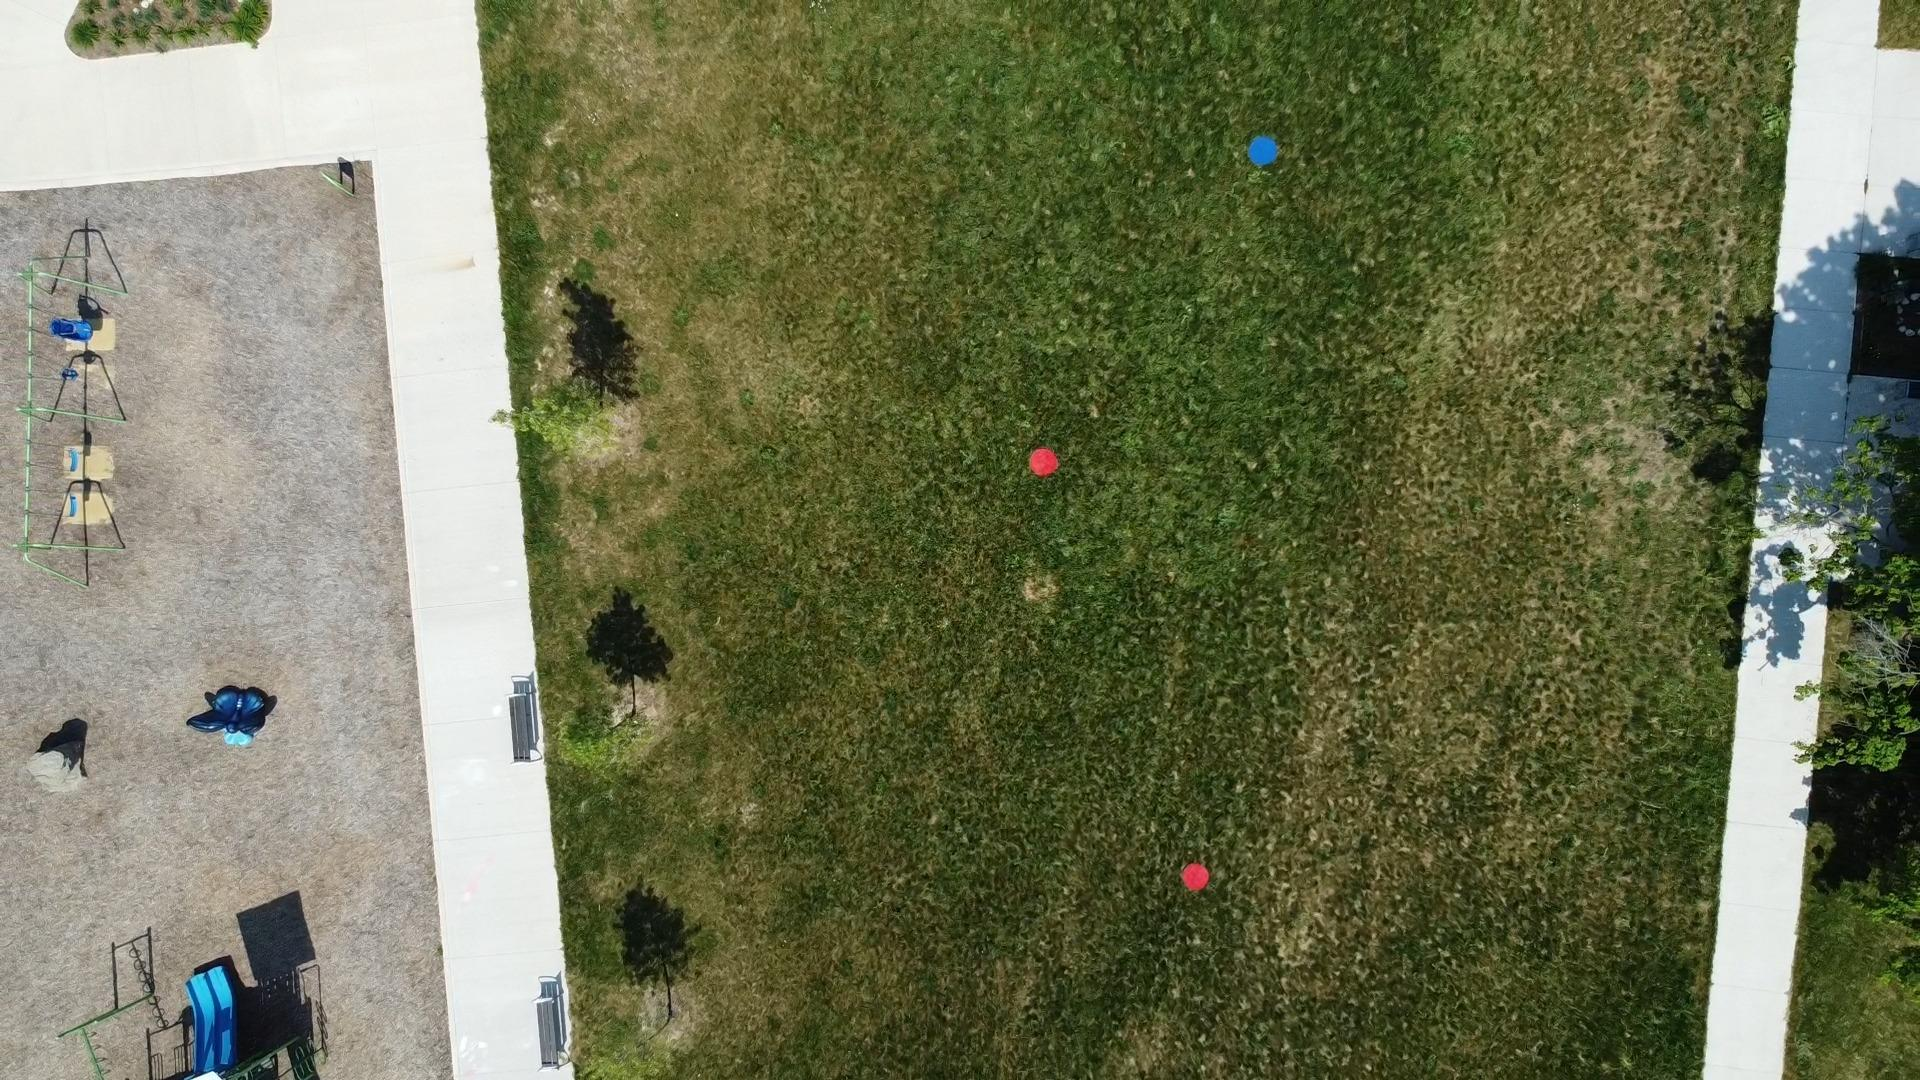Blue: (1247, 137, 1279, 167)
Red: (1027, 447, 1060, 477), (1180, 861, 1212, 891)
